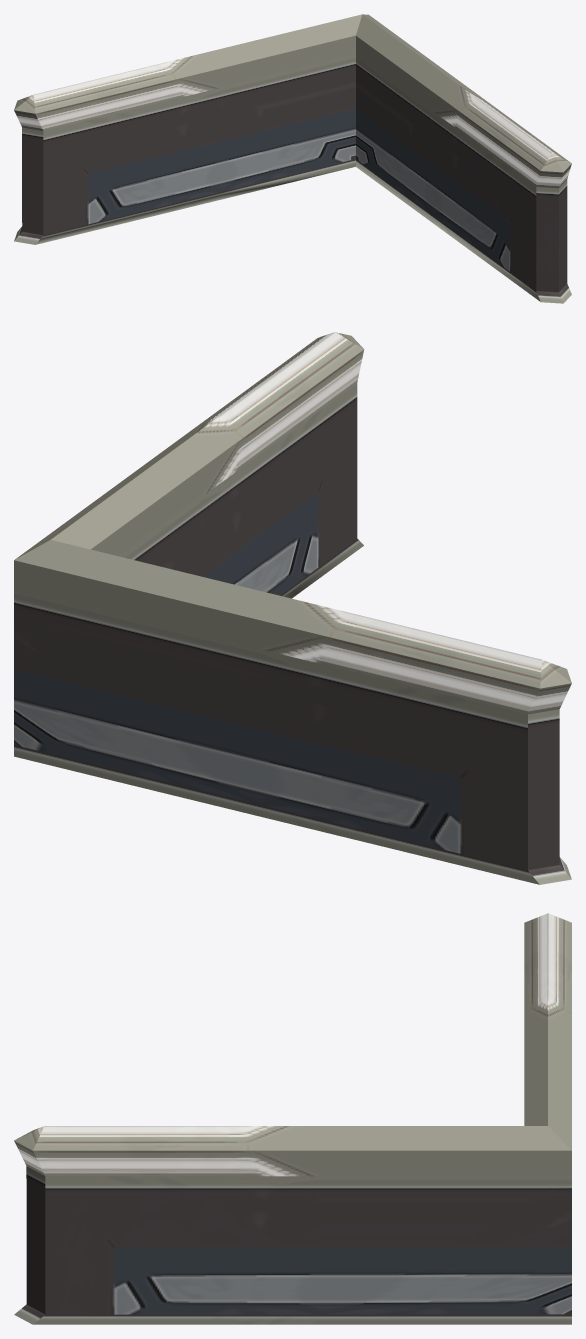
File: KF_SM_XBuilding019.fbx
3 views of the same model, one above another, from view 1: azimuth 30°, elevation 25°; view 2: azimuth 150°, elevation 25°; view 3: azimuth 270°, elevation 25° (orthographic). The views are drawn at different scales.
Visible parts, largest first — view 1: KF_SM_XBuilding019; view 2: KF_SM_XBuilding019; view 3: KF_SM_XBuilding019.
Part boxes in pixels (x1,y1,x2,y2): KF_SM_XBuilding019: (14, 14, 571, 303); KF_SM_XBuilding019: (14, 332, 571, 884); KF_SM_XBuilding019: (14, 913, 571, 1324).
Bounding box in the file's own units: 4273 × 1594 × 4273.
